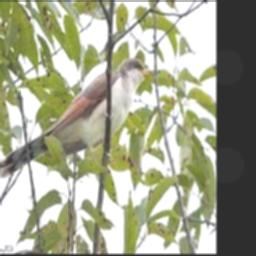Cuckoo: (0, 57, 158, 179)
